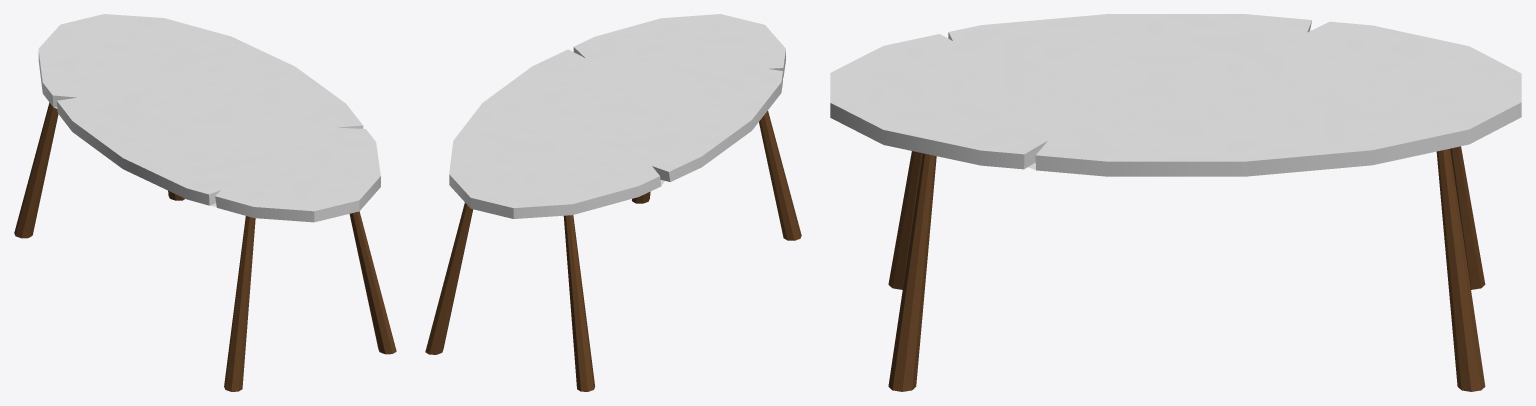
The model's file is Table_03_02_Damaged.fbx.
3 views of the same model, side by side, from view 1: azimuth 30°, elevation 25°; view 2: azimuth 150°, elevation 25°; view 3: azimuth 270°, elevation 25° (orthographic). The views are drawn at different scales.
Parts seen in each view (by area): view 1: Table_03_02_Damaged; view 2: Table_03_02_Damaged; view 3: Table_03_02_Damaged.
Part boxes in pixels (bbox=[...]): Table_03_02_Damaged: bbox=[14, 14, 396, 391]; Table_03_02_Damaged: bbox=[425, 14, 801, 391]; Table_03_02_Damaged: bbox=[830, 14, 1521, 391].
Bounding box in the file's own units: 1.07 × 0.8341 × 2.11.
